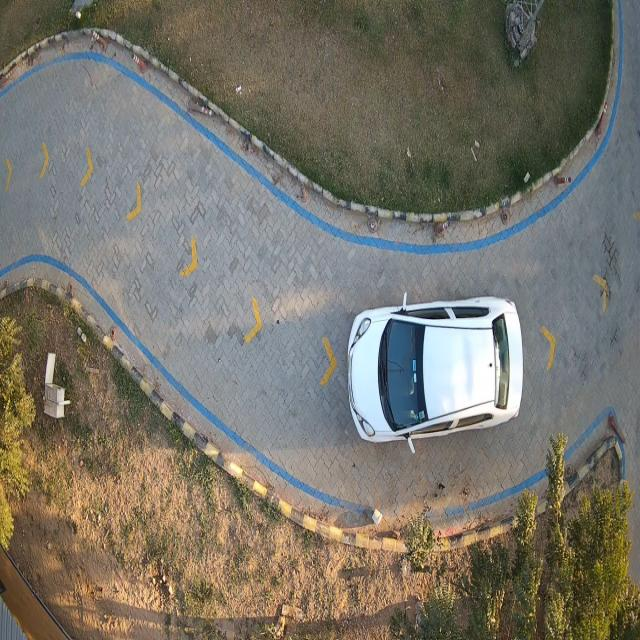car: (348, 297, 524, 443)
